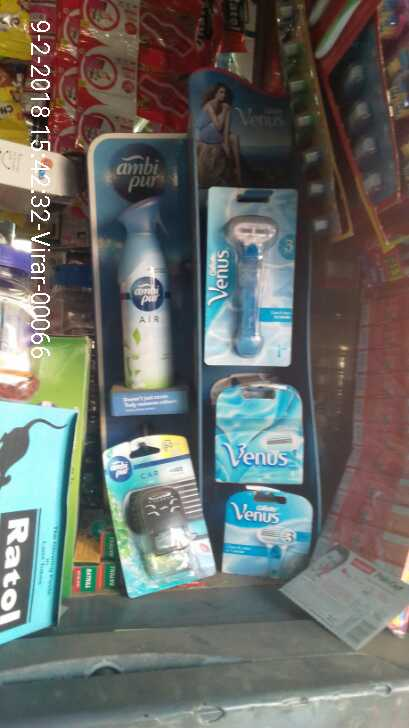beauty: (203, 186, 295, 365), (214, 382, 307, 487), (223, 491, 312, 582)
home: (99, 427, 212, 598), (106, 197, 182, 391)
